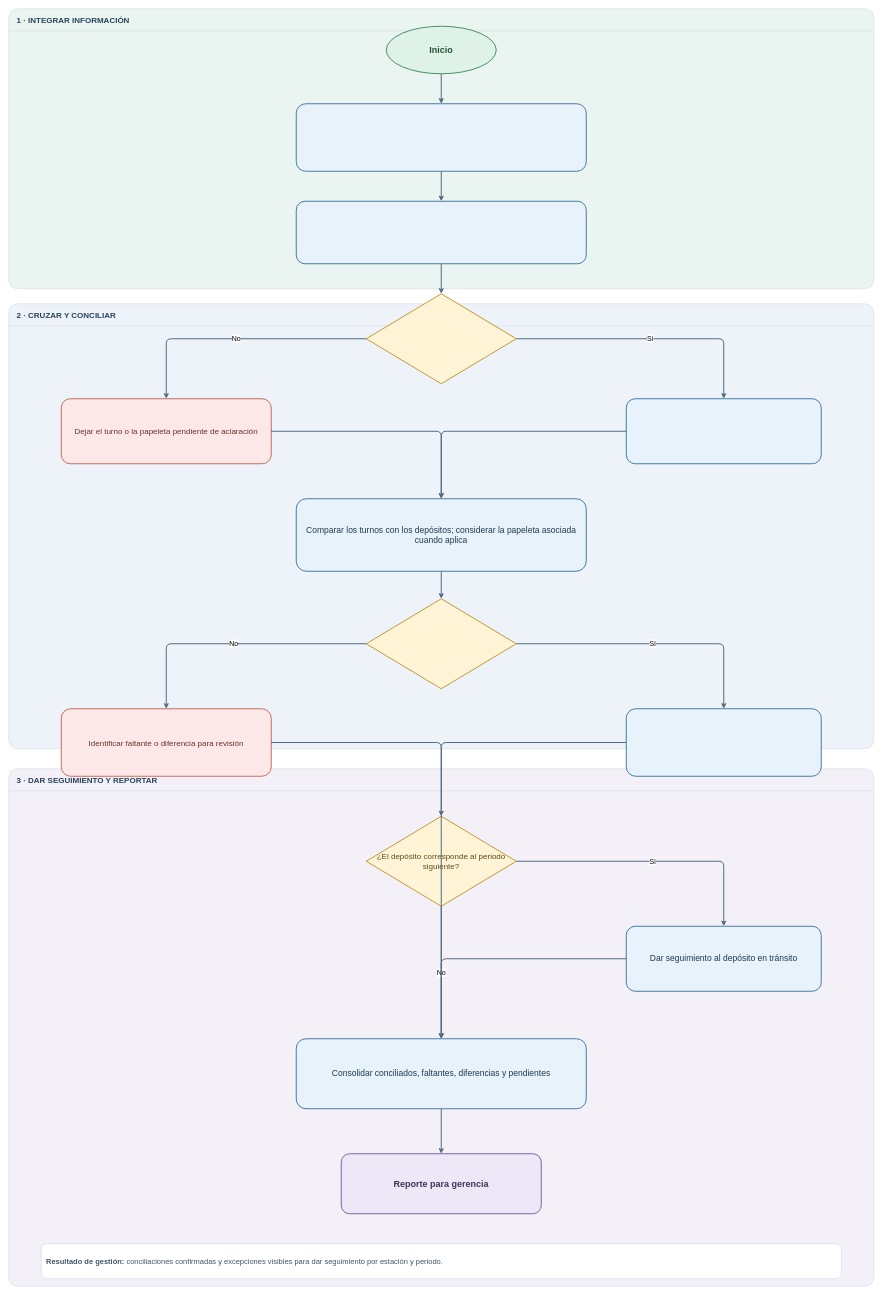
Image size: 883x1295. Some labels were removed from this diagram. Here are the shapes that lost their labels. From the top down, the centre of each, then its label:
At point (441, 137): "Reunir turnos de operación, papeletas REGIO y depósitos bancarios".
At point (441, 232): "Organizar la información por estación, fecha, turno y concepto".
At point (441, 338): "¿La papeleta REGIO corresponde a un turno?".
At point (724, 431): "Vincular la papeleta REGIO con el turno".
At point (441, 643): "¿Se encuentra un depósito que coincide?".
At point (724, 742): "Registrar la conciliación del turno, la papeleta y el depósito".
